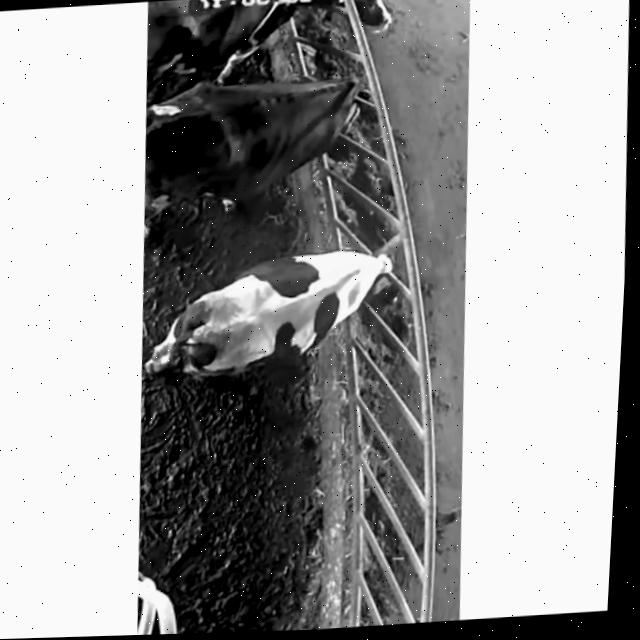eat: (284, 230, 445, 339), (257, 65, 420, 171), (219, 0, 409, 59)
